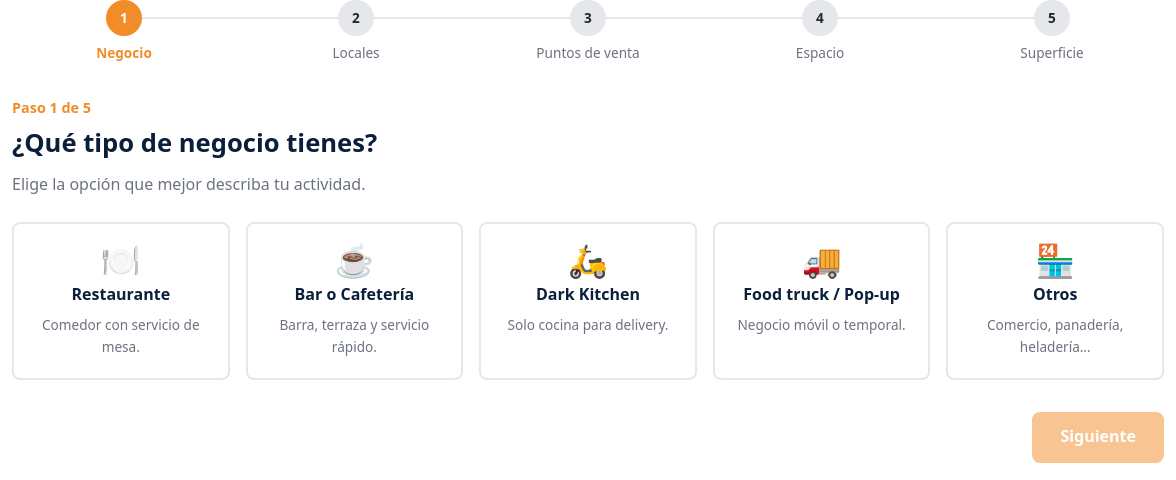
RateWizard › goes to step 2 and back keeping the answer
What coordinates should you click on to do the following:
click the radio button with class "option" that starts with "Restaurante"
I would click on:
 (121, 301)
Its box is x1=12 y1=222 x2=230 y2=380.
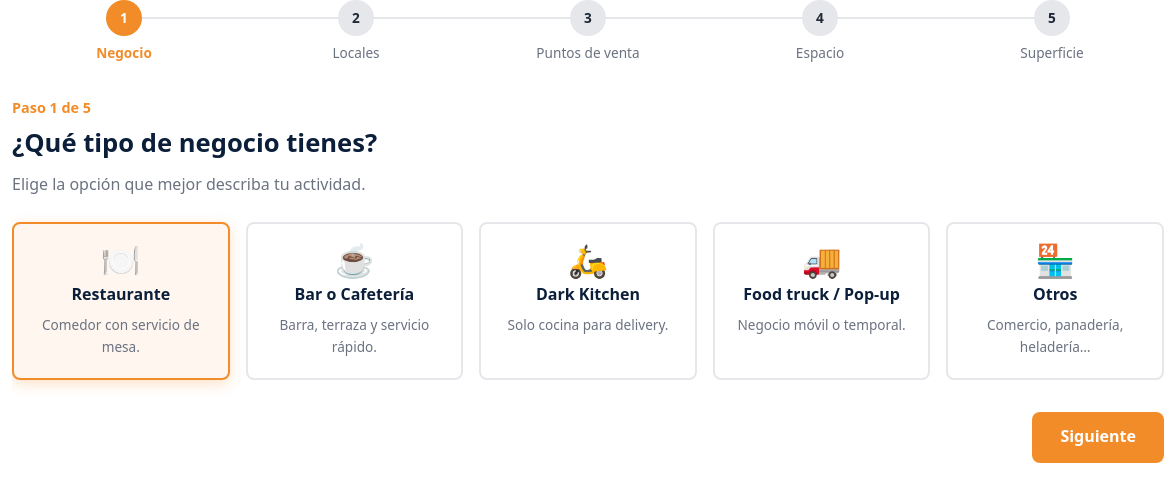
What coordinates should you click on to do the following:
click the button with class "wizard__next"
I would click on:
 (1098, 437)
Its box is x1=1032 y1=412 x2=1164 y2=463.
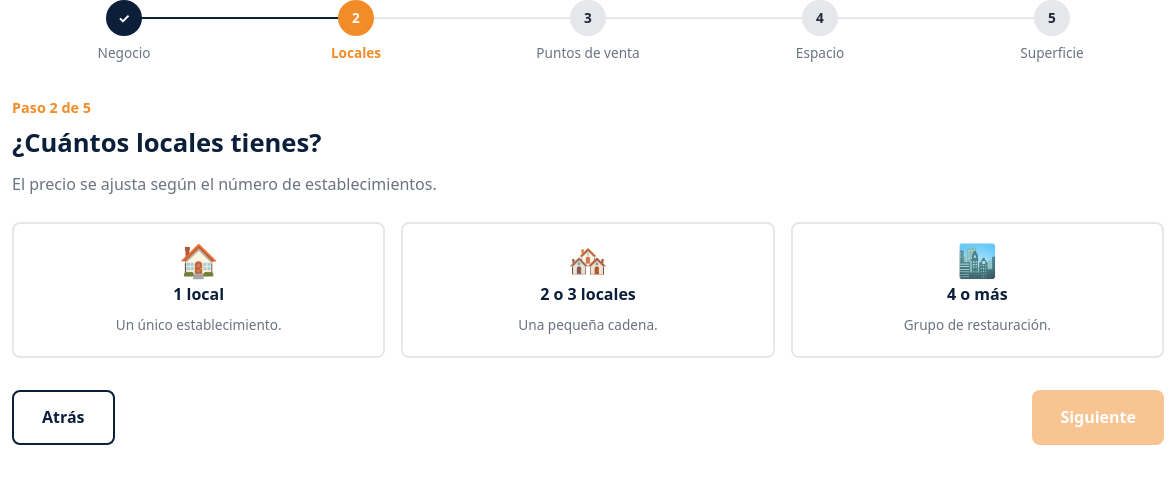
Now the text "Paso 2 de 5" is shown, box x1=12 y1=98 x2=91 y2=117
What coordinates should you click on to do the following:
click the button with class "wizard__back"
I would click on:
 (63, 417)
Its box is x1=12 y1=390 x2=114 y2=445.
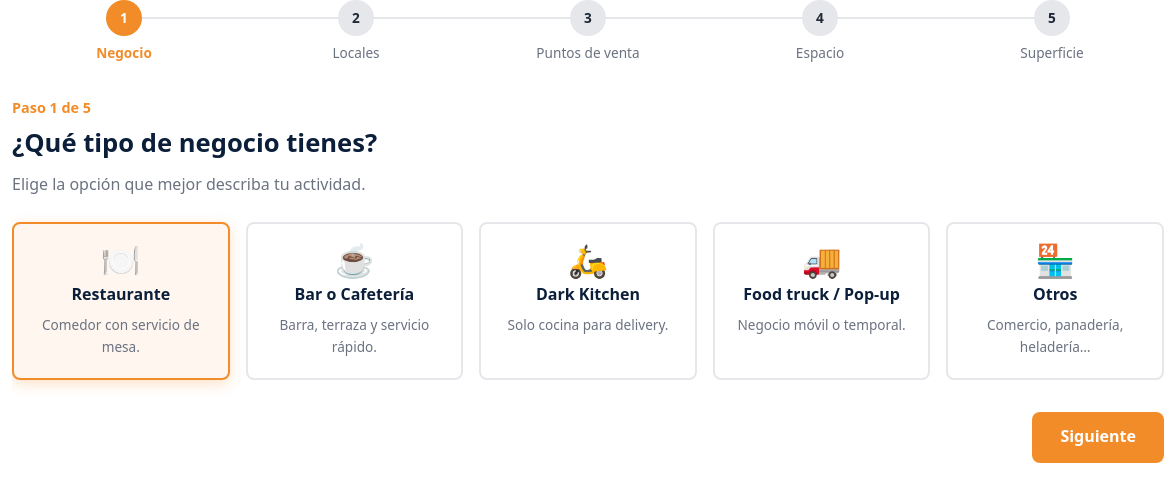
Now the text "Paso 1 de 5" is shown, box x1=12 y1=98 x2=91 y2=117
Now the radio button with class "is-selected" shows "Restaurante", box x1=12 y1=222 x2=230 y2=380
